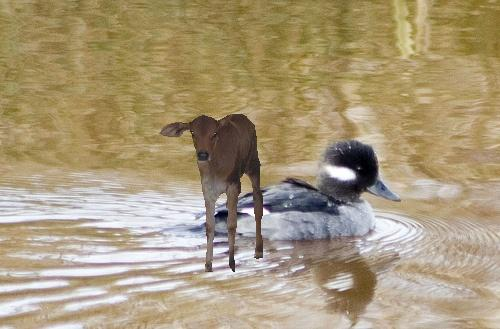tampered: (160, 115, 263, 272)
